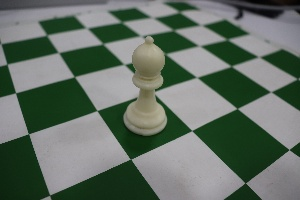white_bishop: (117, 23, 172, 142)
